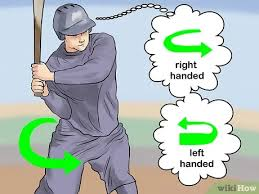baseball bat: (29, 1, 47, 99)
